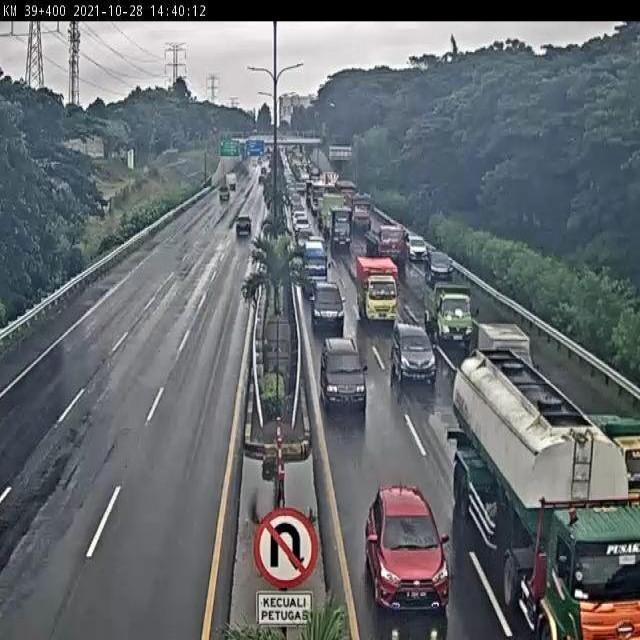big truck: (450, 353, 640, 639)
car: (362, 478, 455, 618), (317, 331, 375, 409), (387, 316, 440, 388), (309, 277, 346, 328), (425, 242, 453, 282), (404, 229, 429, 263), (234, 213, 252, 235), (296, 224, 314, 243)
mid truck: (581, 408, 640, 496), (419, 278, 477, 346), (351, 250, 402, 322), (358, 215, 403, 260)
small bus: (302, 235, 329, 280)
small truck: (474, 315, 533, 369)
